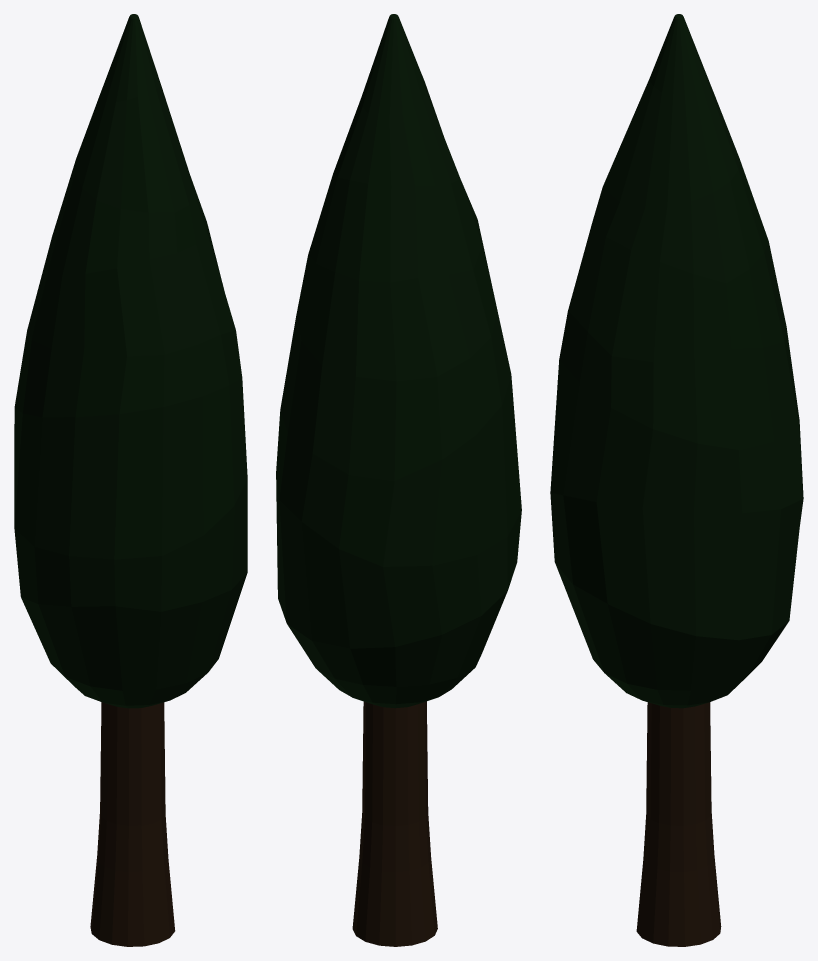
File: Pine_Tree.obj
3 renders of one model, left to right at view 1: azimuth 30°, elevation 25°; view 2: azimuth 150°, elevation 25°; view 3: azimuth 270°, elevation 25°, orthographic.
Parts seen in each view (by area): view 1: Pine_Tree_Cylinder.020; view 2: Pine_Tree_Cylinder.020; view 3: Pine_Tree_Cylinder.020.
Boxes of the visible parts, bbox=[...] form: Pine_Tree_Cylinder.020: bbox=[14, 14, 247, 946]; Pine_Tree_Cylinder.020: bbox=[276, 14, 521, 946]; Pine_Tree_Cylinder.020: bbox=[550, 14, 803, 946].
Bounding box in the file's own units: 1.08 × 4.6 × 1.15.
